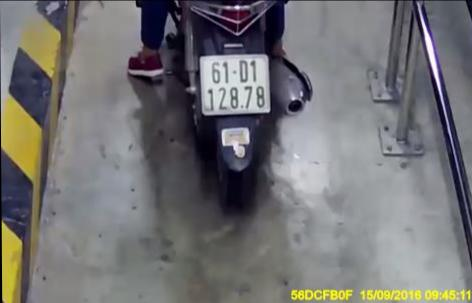LP: (196, 54, 273, 116)
